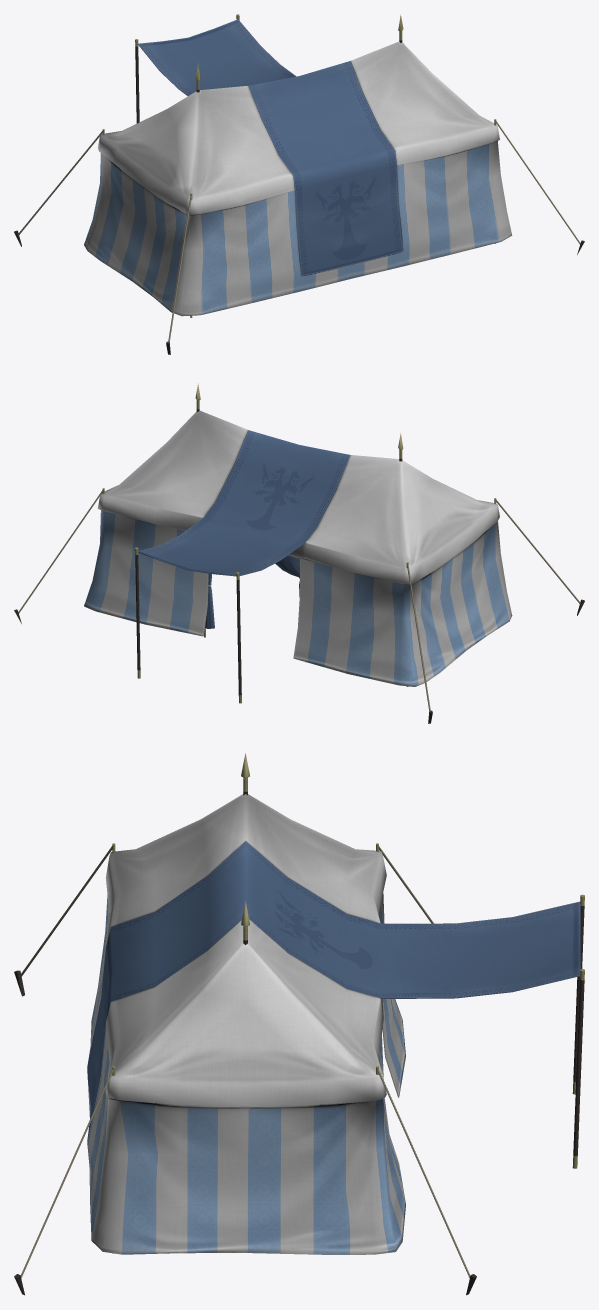
The model's file is wartent.fbx.
3 views of the same model, one above another, from view 1: azimuth 30°, elevation 25°; view 2: azimuth 150°, elevation 25°; view 3: azimuth 270°, elevation 25° (orthographic). The views are drawn at different scales.
Parts seen in each view (by area): view 1: wartent_mesh; view 2: wartent_mesh; view 3: wartent_mesh.
Boxes of the visible parts, x1,y1,x2,y2 form: wartent_mesh: (14, 14, 584, 354); wartent_mesh: (14, 383, 584, 723); wartent_mesh: (14, 753, 584, 1295).
Size of the model in its own units: 8.27 by 4 by 6.5.
